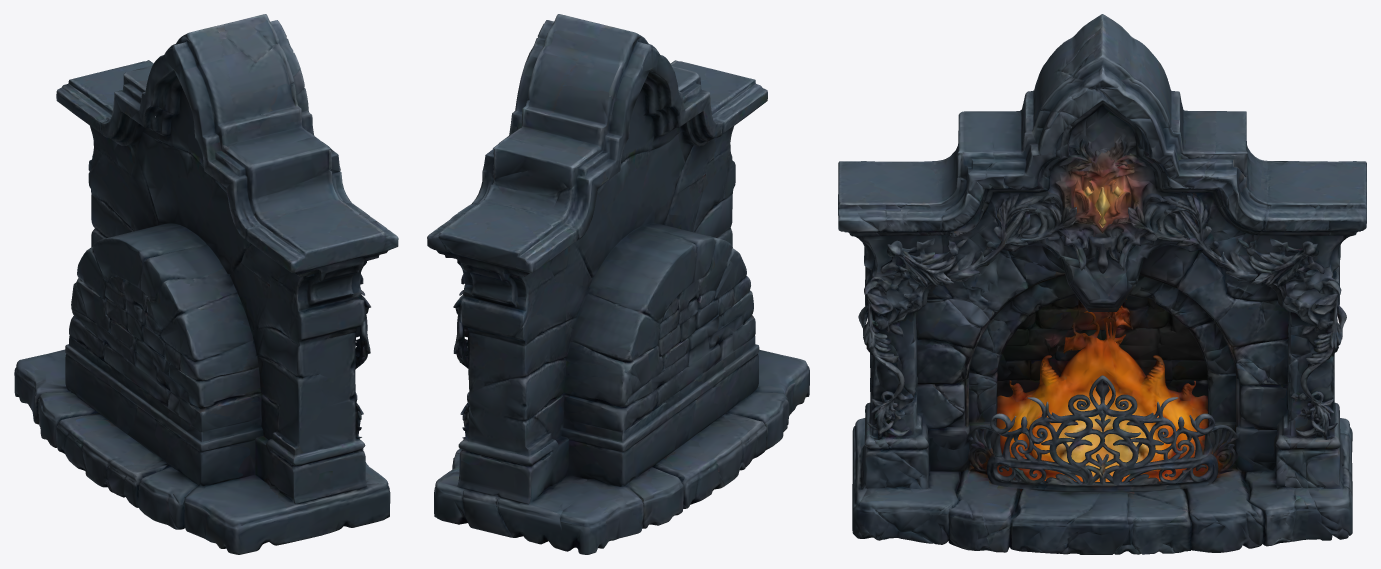
Rendered from bg_fireplace.glb.
The picture shows the model from 3 angles, left to right: view 1: azimuth 30°, elevation 25°; view 2: azimuth 150°, elevation 25°; view 3: azimuth 270°, elevation 25°; orthographic projection. The views are drawn at different scales.
Parts seen in each view (by area): view 1: tripo_node_675d9739-1934-4b4e-9a76-a952004c0608; view 2: tripo_node_675d9739-1934-4b4e-9a76-a952004c0608; view 3: tripo_node_675d9739-1934-4b4e-9a76-a952004c0608.
Part boxes in pixels (x1=…): tripo_node_675d9739-1934-4b4e-9a76-a952004c0608: x1=14, y1=14, x2=398, y2=554; tripo_node_675d9739-1934-4b4e-9a76-a952004c0608: x1=427, y1=14, x2=809, y2=554; tripo_node_675d9739-1934-4b4e-9a76-a952004c0608: x1=838, y1=14, x2=1366, y2=554.
Size of the model in its own units: 0.5231 by 0.9739 by 0.9795.
1 material, 1 textured.
